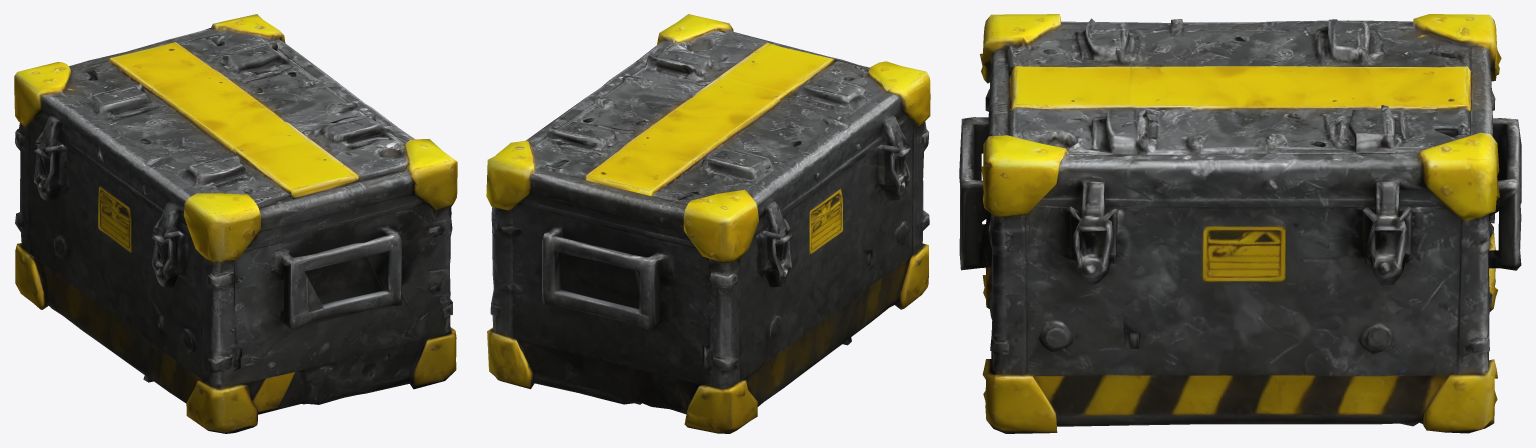
Rendered from xd_crate2.glb.
3 views of the same model, side by side, from view 1: azimuth 30°, elevation 25°; view 2: azimuth 150°, elevation 25°; view 3: azimuth 270°, elevation 25° (orthographic). The views are drawn at different scales.
Parts seen in each view (by area): view 1: tripo_node_2baaf6c9-c19c-4ca6-b285-0255baa5f09b; view 2: tripo_node_2baaf6c9-c19c-4ca6-b285-0255baa5f09b; view 3: tripo_node_2baaf6c9-c19c-4ca6-b285-0255baa5f09b.
Boxes of the visible parts, x1,y1,x2,y2 form: tripo_node_2baaf6c9-c19c-4ca6-b285-0255baa5f09b: [14, 14, 457, 433]; tripo_node_2baaf6c9-c19c-4ca6-b285-0255baa5f09b: [486, 14, 930, 433]; tripo_node_2baaf6c9-c19c-4ca6-b285-0255baa5f09b: [959, 14, 1521, 433].
Bounding box in the file's own units: 0.701 × 0.5535 × 0.9822.
1 material, 1 textured.
